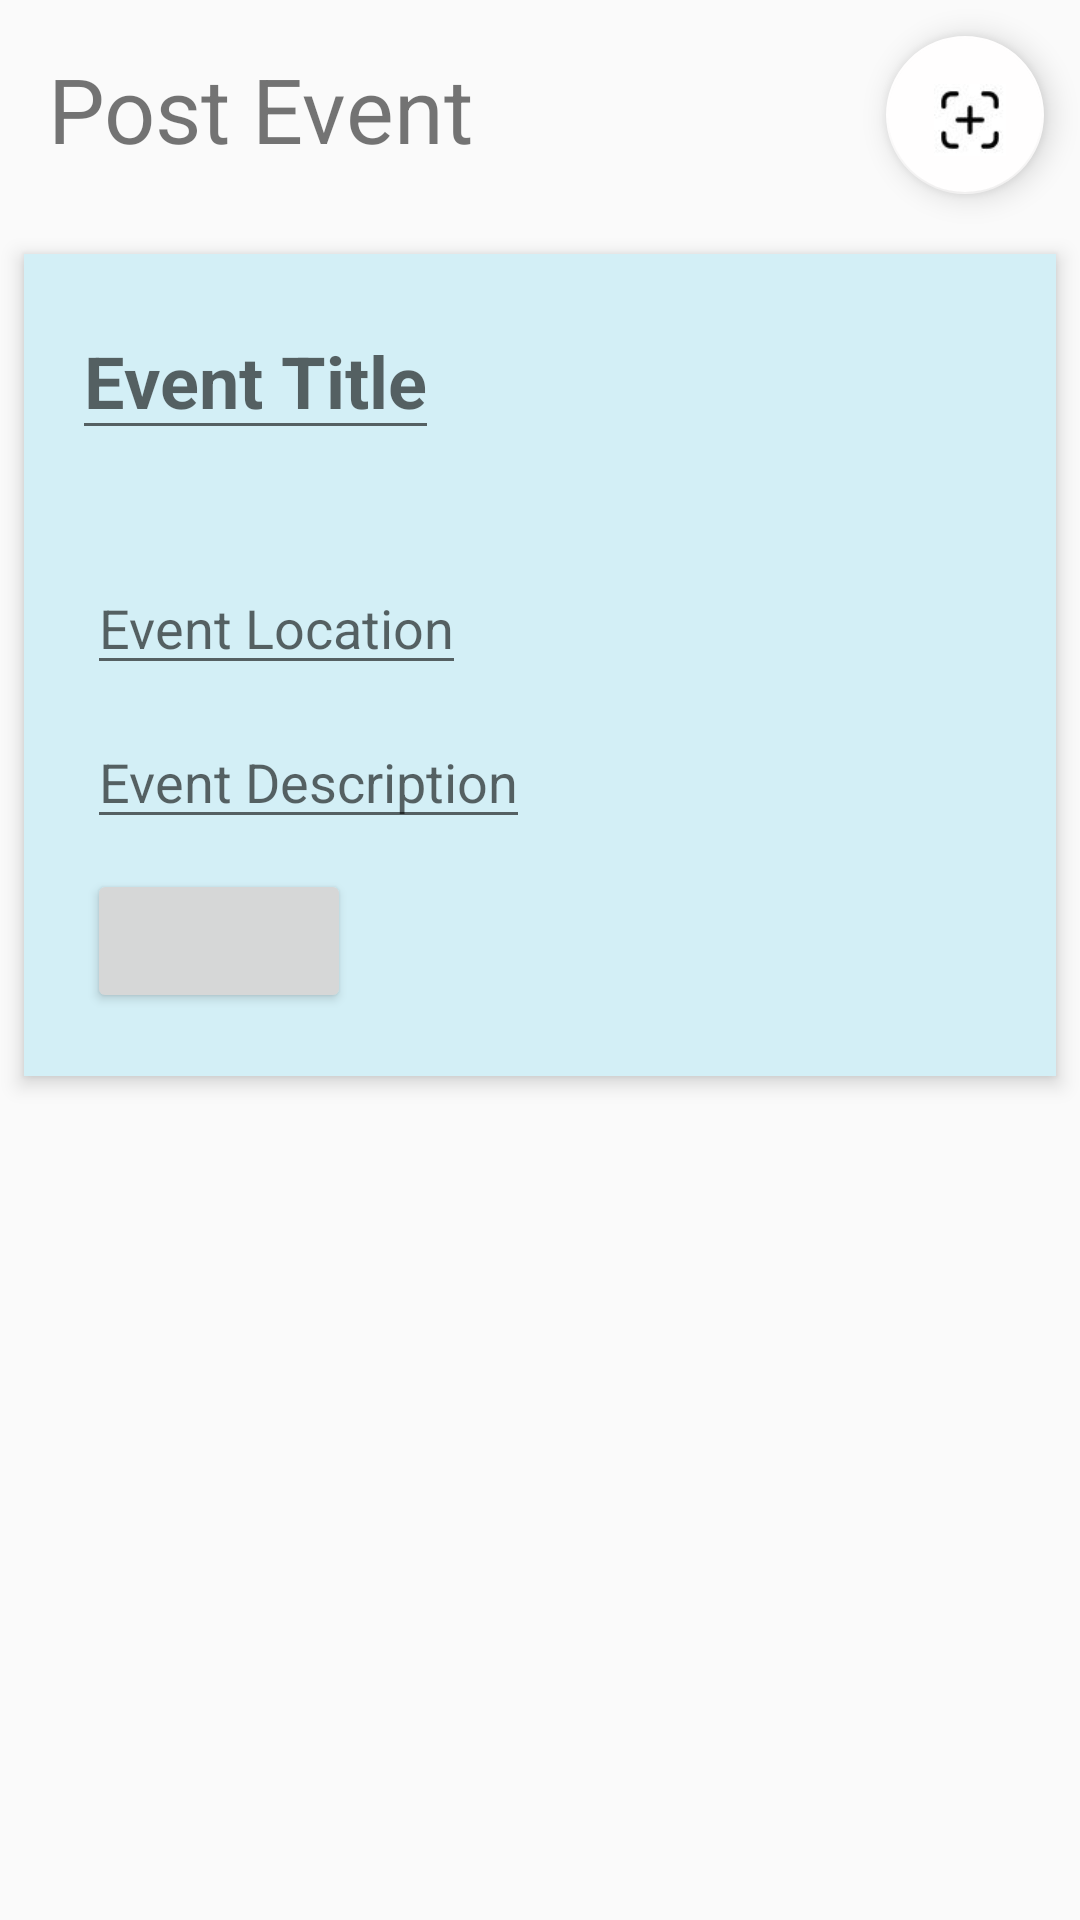

Named icons in this screenshot (1080×1920) and their centers, (x,y):
add: (965,115)
